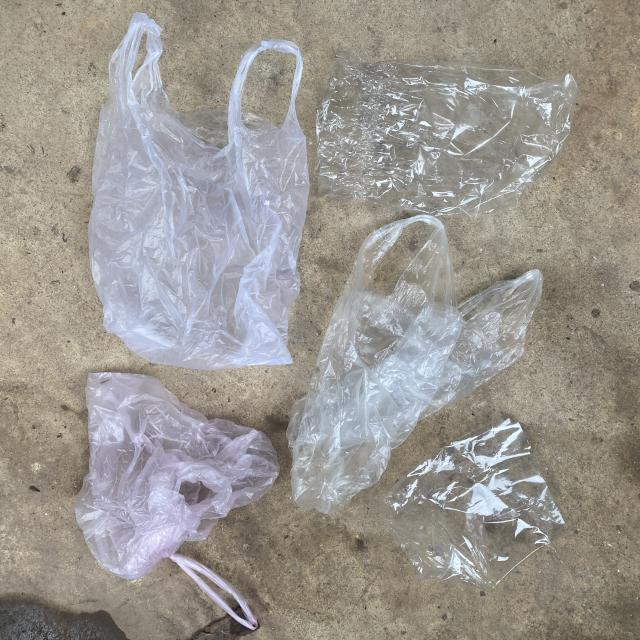Single-layer Plastic: (89, 12, 309, 370), (288, 215, 542, 512), (75, 372, 279, 629), (316, 52, 576, 218), (384, 419, 564, 588)
